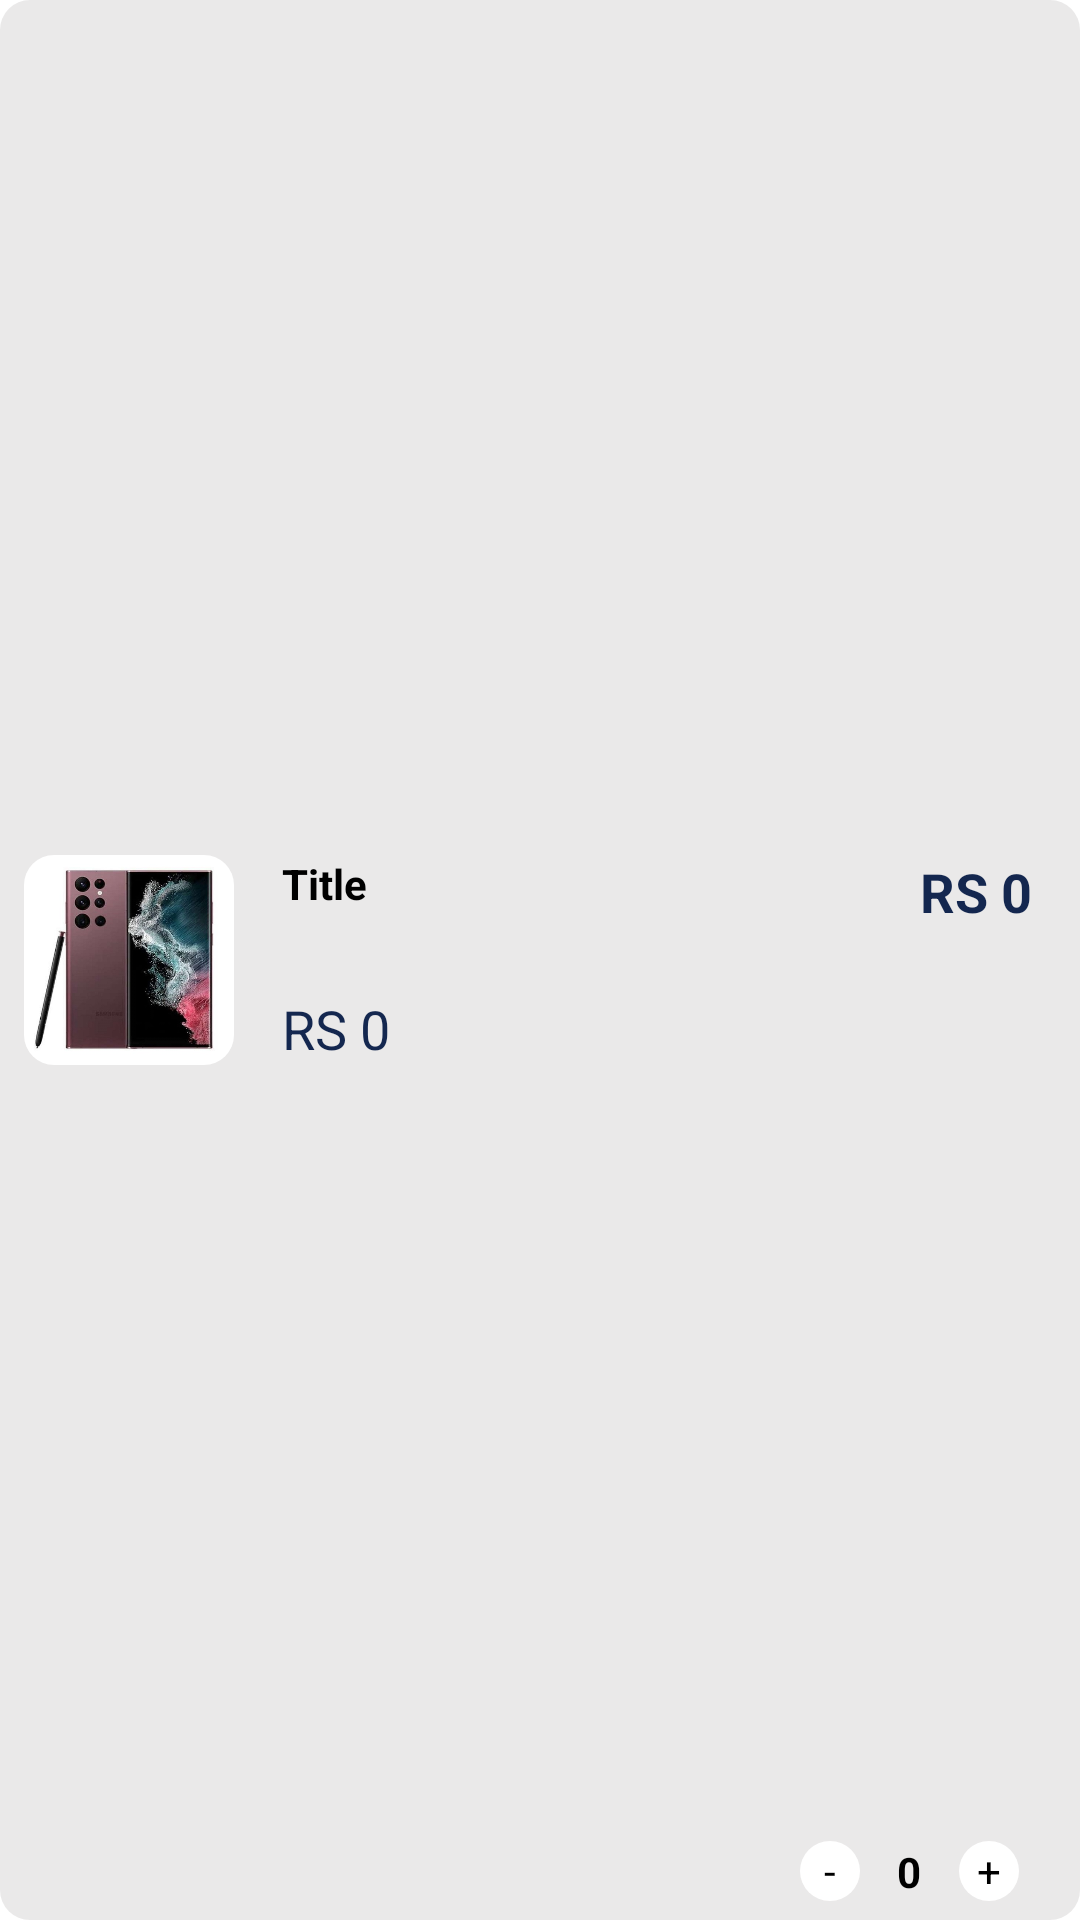

Named icons in this screenshot (1080px×1920px) and their bounding boxes, (x1, y1, x2, y2):
samsungs ultra: (35, 870, 213, 1049)
